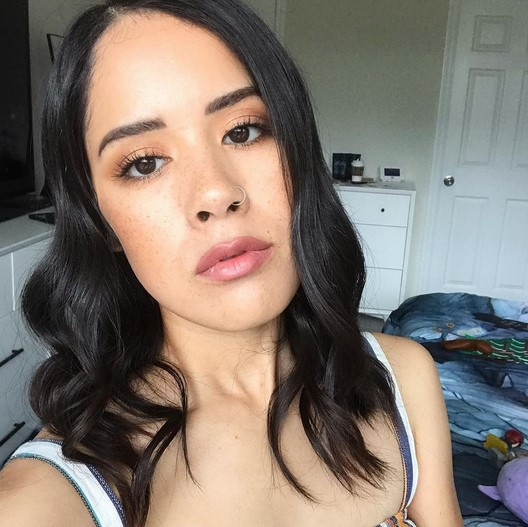face_no_mask: (58, 10, 329, 340)
